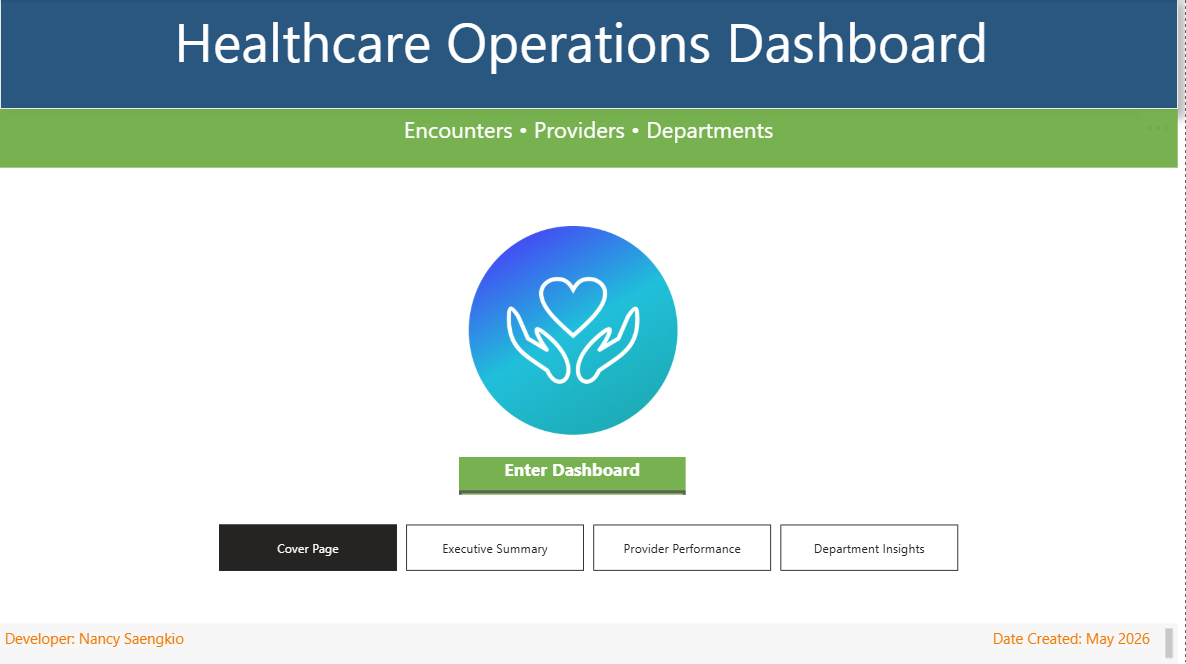

The page's visual inventory and layout, read from the dashboard file:
{"tool":"powerbi","page":{"name":"Cover Page","canvas":[1280,720],"ordinal":0},"visuals":[{"type":"textbox","box":[0,0,1271.1,119.8],"z":0},{"type":"textbox","box":[0,119.8,1271.1,63.1],"z":1000},{"type":"textbox","box":[0,675.2,1271.1,45.3],"z":2000},{"type":"image","box":[453.4,246.1,330.3,225.1],"z":3000},{"type":"actionButton","title":"Enter Dashboard","box":[495.5,495.5,244.5,40.5],"z":4000},{"type":"pageNavigator","box":[236.4,568.3,799.9,50.2],"z":5000}]}

Visuals, with their boxes in screenshot pixels (x1, y1, x2, y2), scaled from the page's 1280x720 canvas onto the 1186x664 screenshot:
textbox: 0/0/1178/110
textbox: 0/110/1178/169
textbox: 0/623/1178/663
image: 420/227/726/435
"Enter Dashboard" actionButton: 459/457/686/494
pageNavigator: 219/524/960/570
